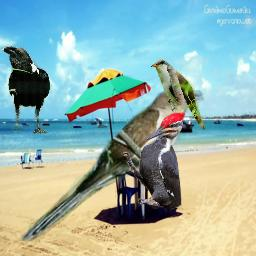Crow: (1, 46, 50, 134)
Cuckoo: (19, 88, 207, 248), (149, 59, 208, 130)
Woodpecker: (121, 112, 185, 210)
